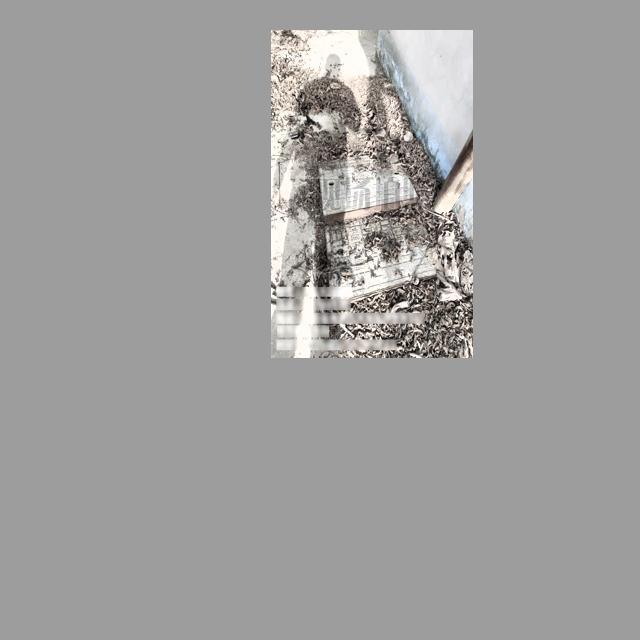uncovered: (316, 152, 439, 302)
